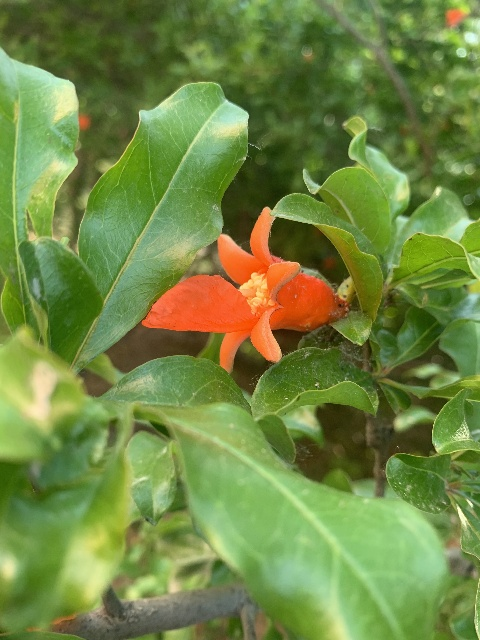flower: (142, 206, 342, 372)
